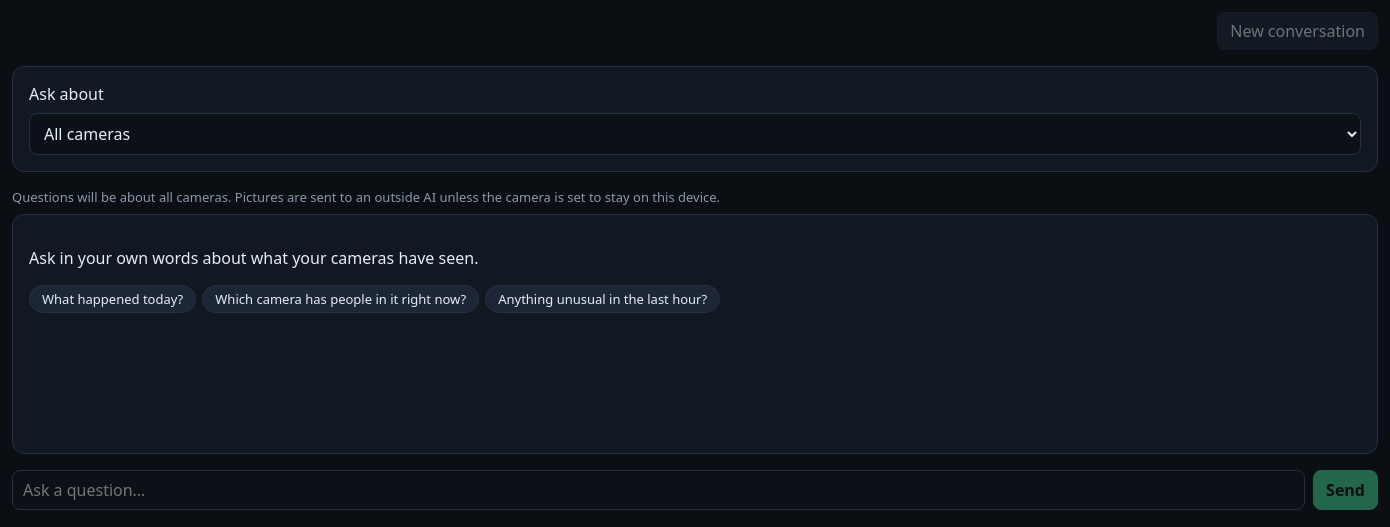
it: ChatPanel streaming › shows words as they arrive, then the final cleaned answer
In the field named "Your question": x=659, y=490 [12,470,1305,510], type "who is there?"
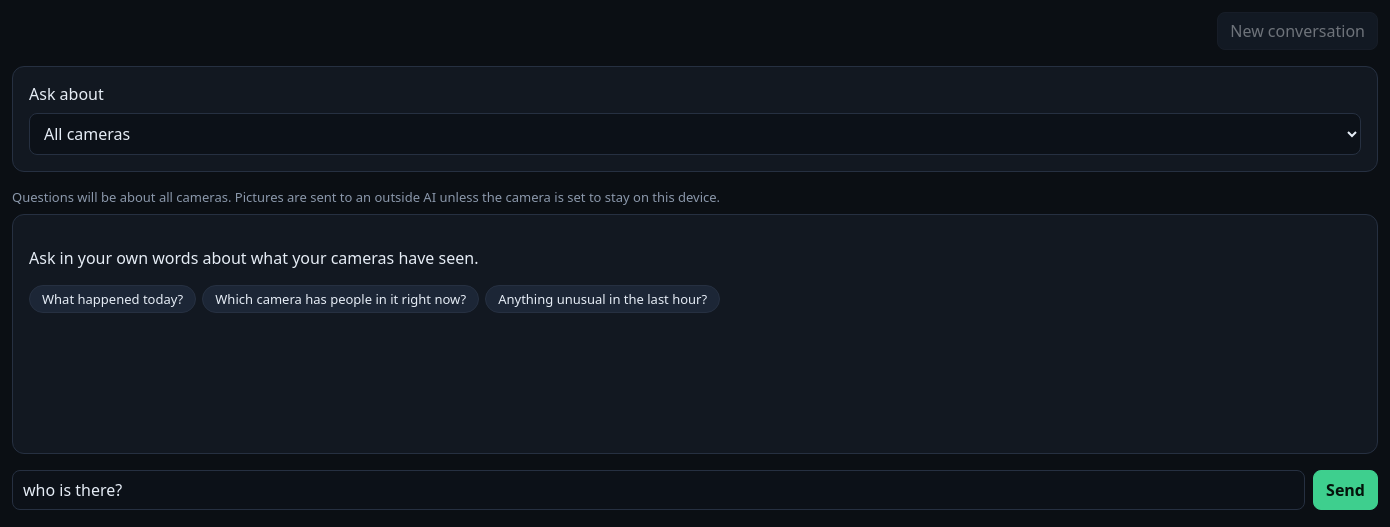
Click the button "Send": x=1346, y=490 [1313,470,1378,510]
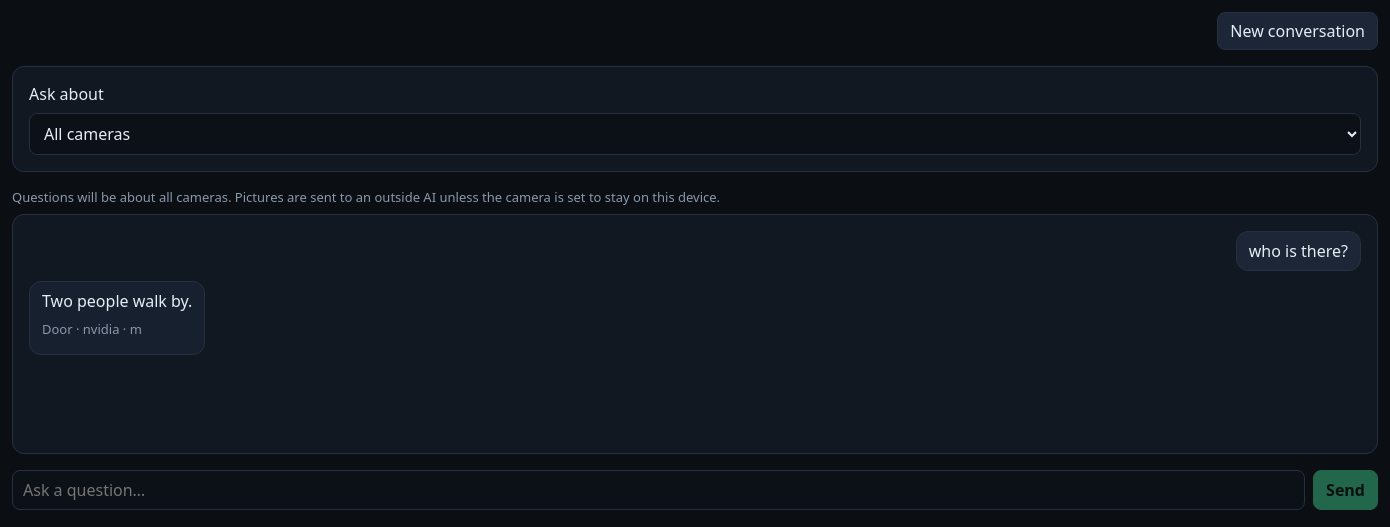
Expected: the text "Two people walk by." is shown, [42,290,192,312]
Expected: the button "Send" is disabled, [1313,470,1378,510]
